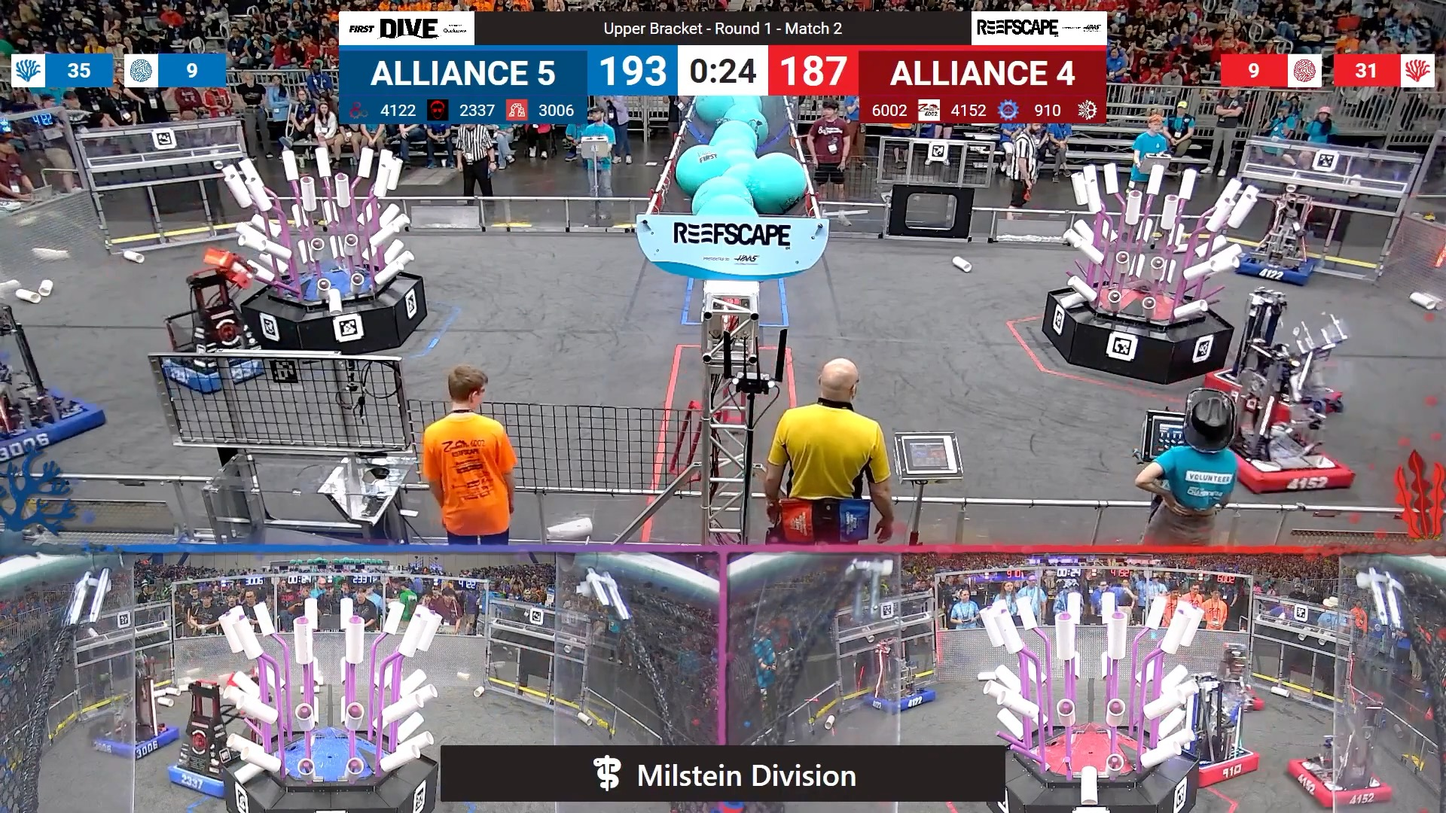bumpers: (1223, 429, 1357, 502), (0, 389, 114, 464), (1195, 374, 1350, 425), (1280, 757, 1396, 812), (155, 347, 276, 394), (1172, 741, 1265, 790), (87, 720, 185, 763), (160, 752, 252, 797), (1227, 248, 1325, 288), (859, 684, 943, 718)
